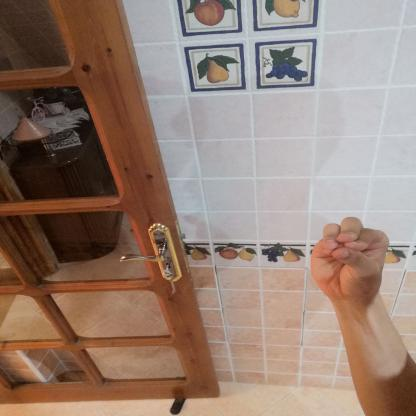HA: (295, 207, 400, 314)
